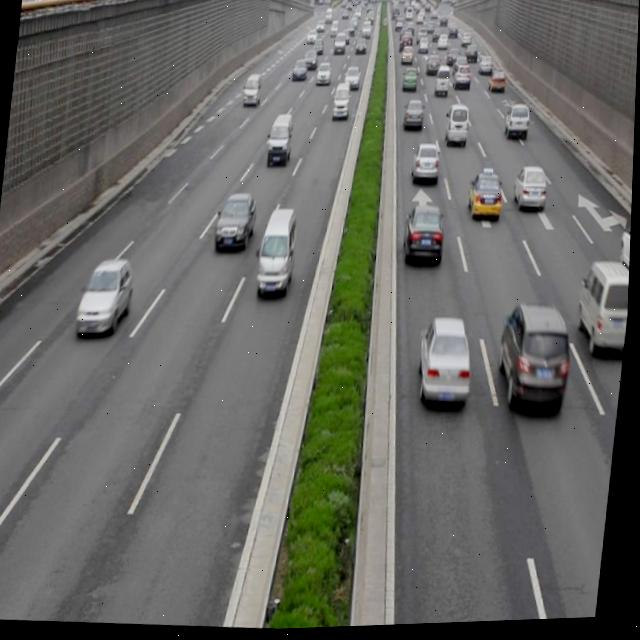car: (495, 305, 576, 417), (416, 314, 477, 412), (74, 257, 136, 343), (212, 190, 260, 259), (402, 204, 447, 272), (466, 171, 505, 223), (510, 166, 548, 214), (410, 146, 441, 191), (503, 105, 530, 146), (401, 102, 423, 130)
truck: (573, 260, 632, 361), (255, 206, 300, 299), (266, 113, 296, 169), (444, 103, 471, 153), (331, 83, 350, 121), (242, 75, 261, 110)
